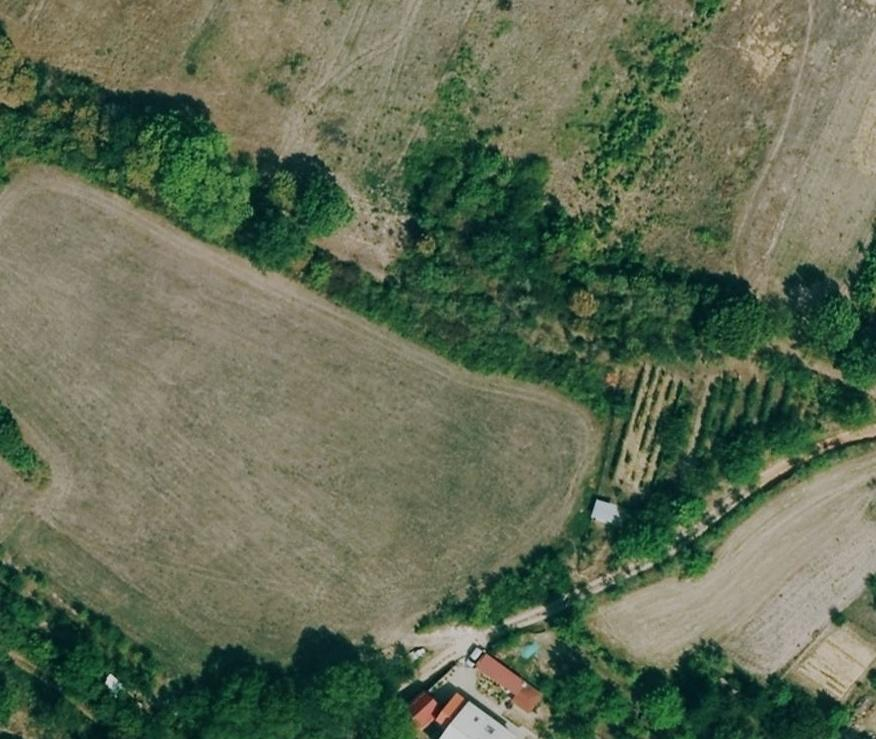field: (0, 168, 599, 672), (0, 0, 635, 274), (616, 0, 876, 293), (590, 448, 876, 675)
forest: (305, 133, 789, 414), (0, 62, 352, 269), (0, 562, 414, 738), (145, 628, 414, 737), (631, 643, 847, 737)
